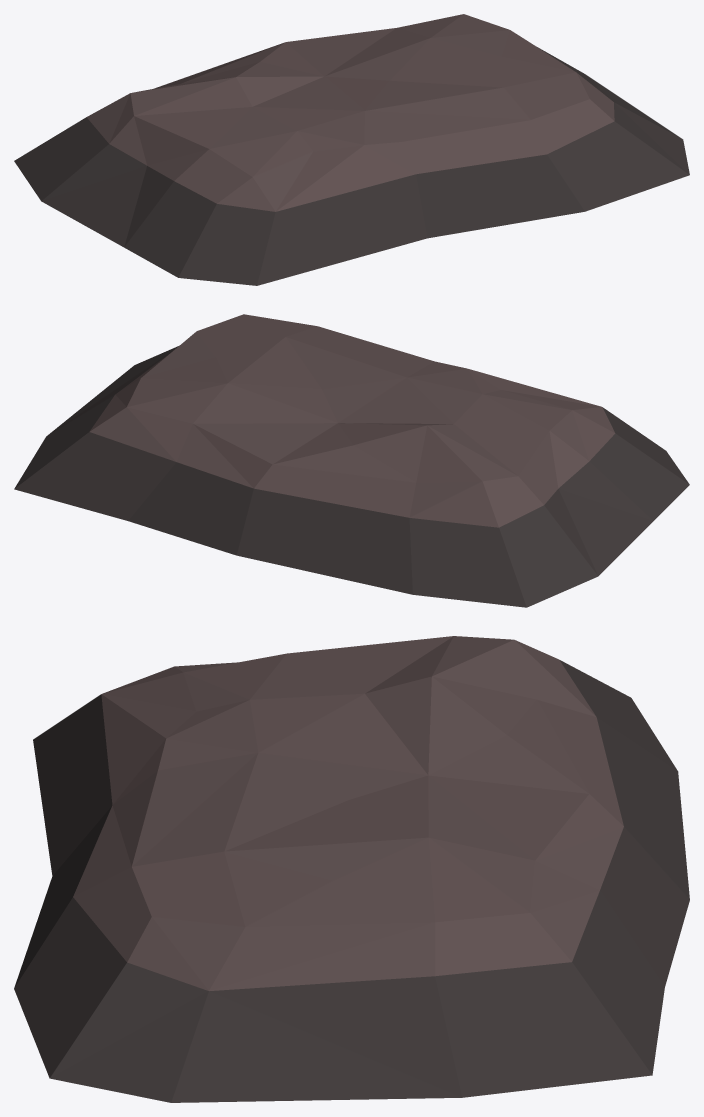
File: TB_D_Env_Mound_Med_C.FBX
The picture shows the model from 3 angles, top to bottom: view 1: azimuth 30°, elevation 25°; view 2: azimuth 150°, elevation 25°; view 3: azimuth 270°, elevation 25°; orthographic projection. The views are drawn at different scales.
Visible parts, largest first — view 1: TB_D_Env_Mound_Med_C; view 2: TB_D_Env_Mound_Med_C; view 3: TB_D_Env_Mound_Med_C.
Part boxes in pixels (x1,y1,x2,y2): TB_D_Env_Mound_Med_C: (14, 14, 689, 285); TB_D_Env_Mound_Med_C: (14, 314, 689, 607); TB_D_Env_Mound_Med_C: (14, 636, 689, 1102).
Size of the model in its own units: 19.48 by 3.11 by 13.21.
